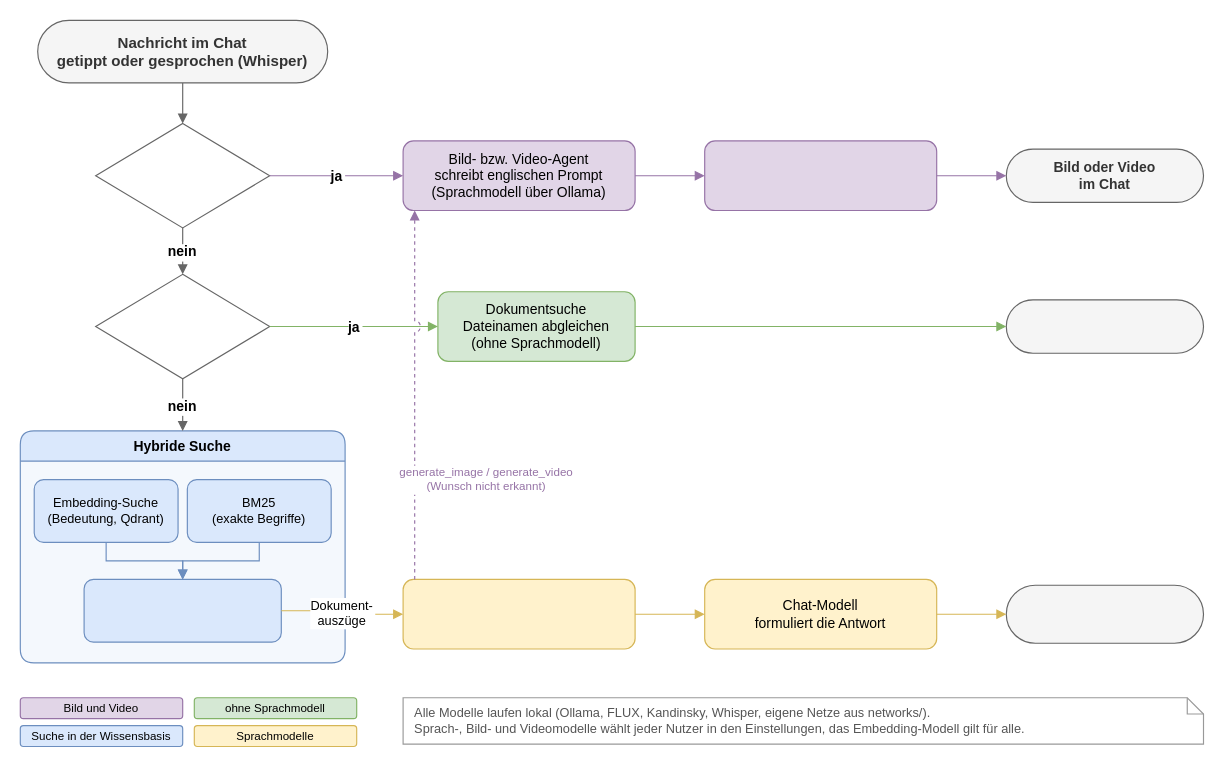
Some shapes in this 1224 by 767 pixel diagram are drawn without their labels. The shapes that lost their labels are listed below. From the top down, each one's centre as x and y in pixels, then its label:
At point (182, 175): "Bild- oder Videowunsch?".
At point (820, 175): "FLUX.2 [klein] 4B: Bild Kandinsky 6.0 Video Lite: Video mit Ton (GPU)".
At point (182, 326): "Dokument- anfrage?".
At point (1104, 326): "Link zum Dokument".
At point (182, 610): "Reciprocal Rank Fusion beste Textabschnitte".
At point (518, 613): "Werkzeug-Agent Tools: Dokumente, Dateien, Bild, Video, eigene neuronale Netze".
At point (1104, 613): "Antwort im Chat (Wort für Wort)".
